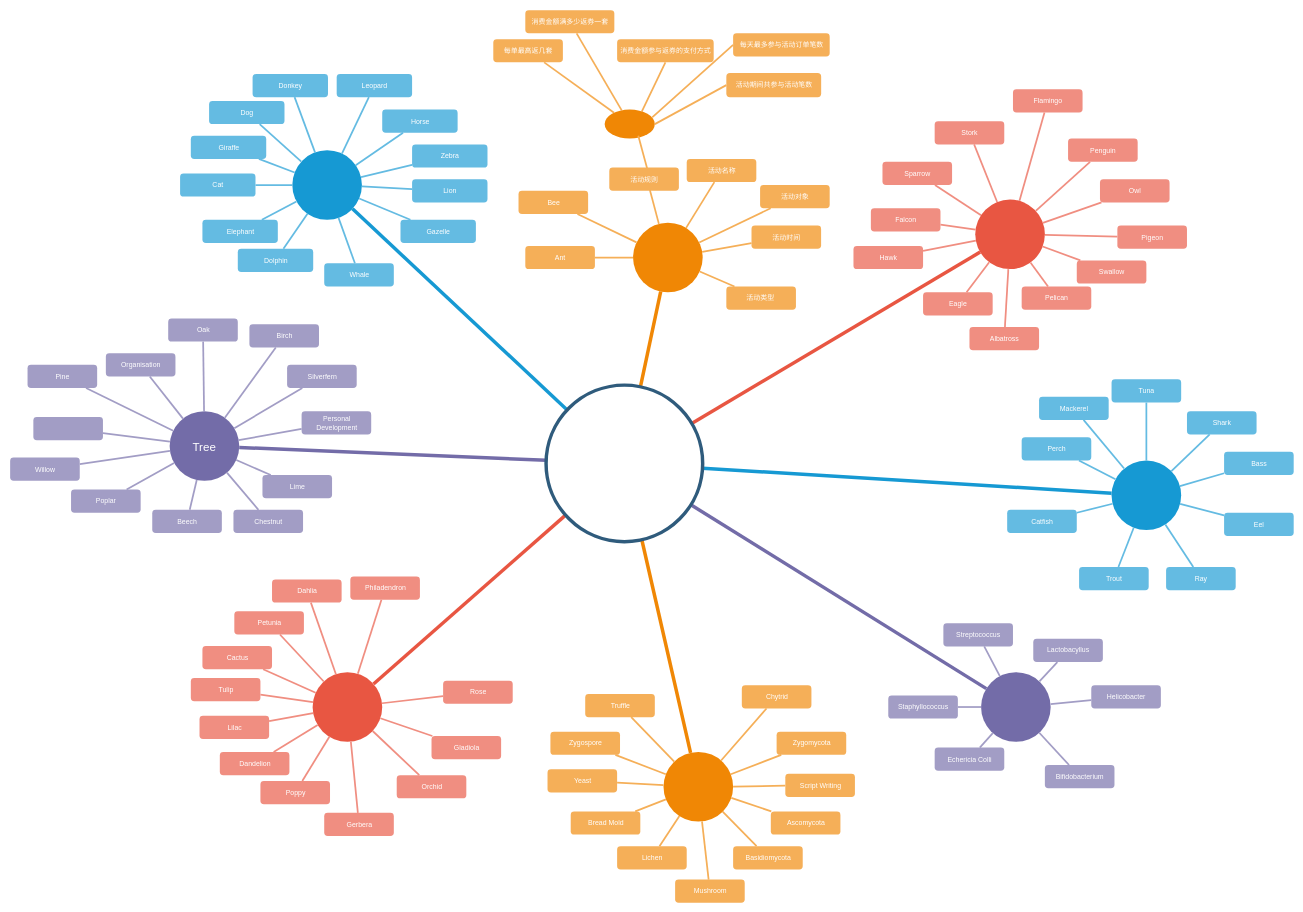
Image size: 1303x912. Some labels were removed from this diagram. The box of each missing label's shape, as (x1, y1, x2, y2) in pixels:
Acacia: (33, 417, 103, 440)
Bacteria: (981, 672, 1050, 742)
Bird: (975, 199, 1045, 269)
Fish: (1111, 460, 1181, 530)
Flower: (312, 672, 382, 742)
Fungi: (663, 752, 733, 821)
Mammal: (292, 150, 362, 220)
促销活动: (633, 222, 702, 292)
数字营销管理平台: (544, 383, 704, 543)
返券活动: (604, 109, 655, 138)
